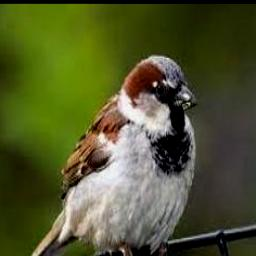Sparrow: (11, 56, 196, 256)
